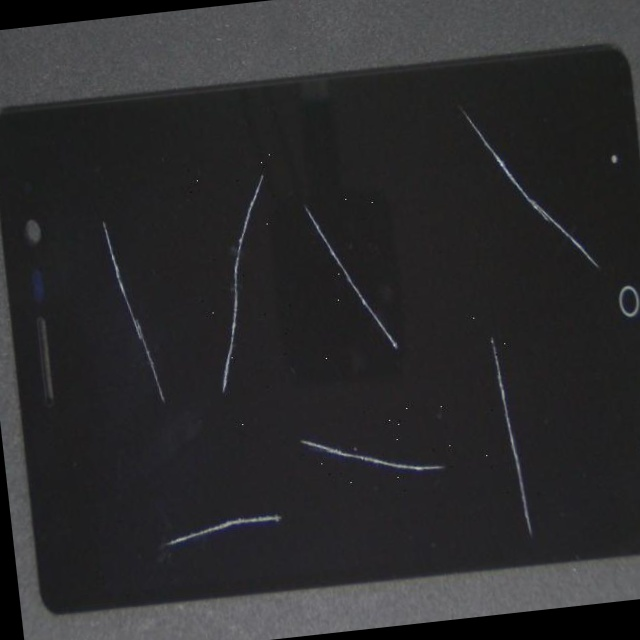scratch: (126, 171, 461, 640), (253, 106, 640, 508), (67, 116, 335, 567), (222, 188, 565, 405)
